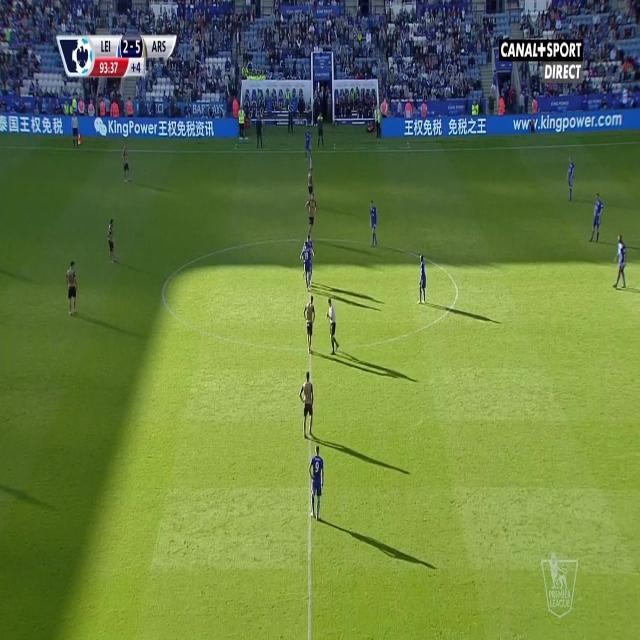Player: (307, 446, 326, 524), (297, 369, 315, 442), (610, 231, 630, 293), (586, 189, 606, 247), (63, 259, 80, 320), (302, 296, 317, 354), (300, 238, 314, 292), (416, 254, 429, 306), (306, 193, 319, 242), (367, 200, 379, 253), (564, 154, 576, 205), (105, 216, 117, 266), (300, 125, 314, 164), (120, 144, 131, 189), (306, 167, 316, 199)
Referee: (325, 296, 340, 355), (68, 110, 81, 151)
